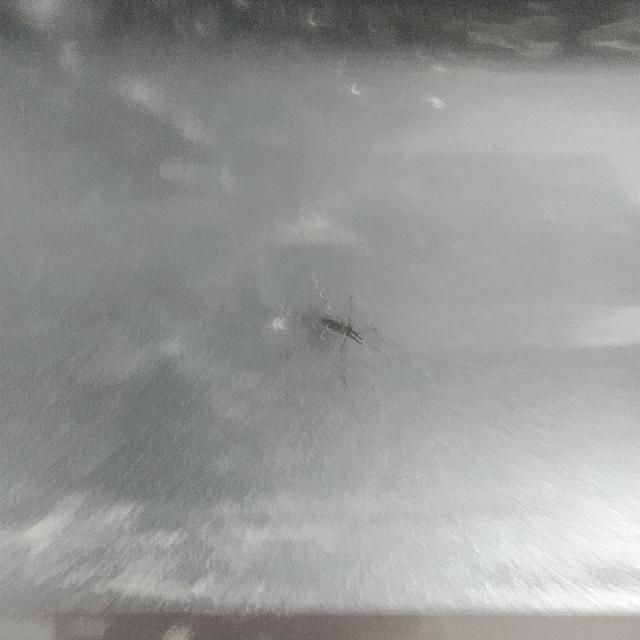albopictus: (263, 289, 382, 354)
